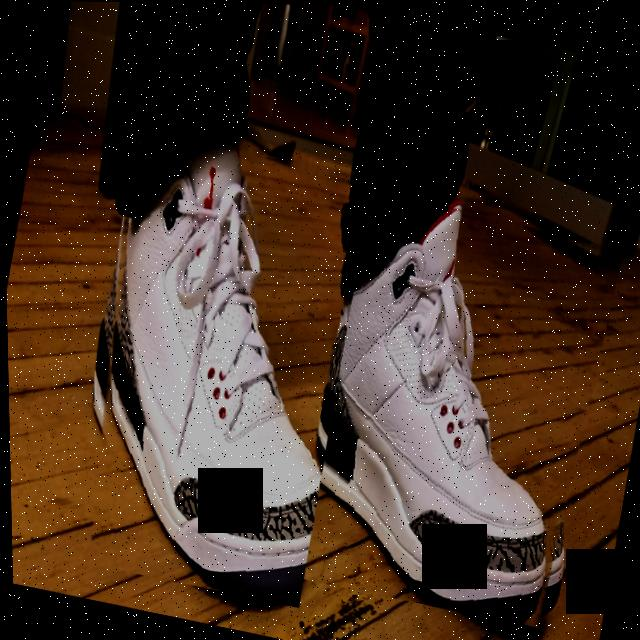shoe: (270, 179, 631, 632), (49, 125, 380, 608)
